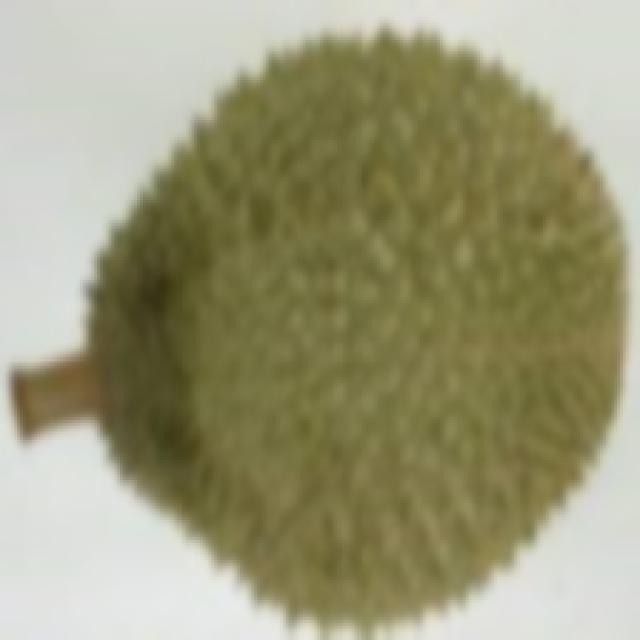d2: (35, 38, 623, 573)
